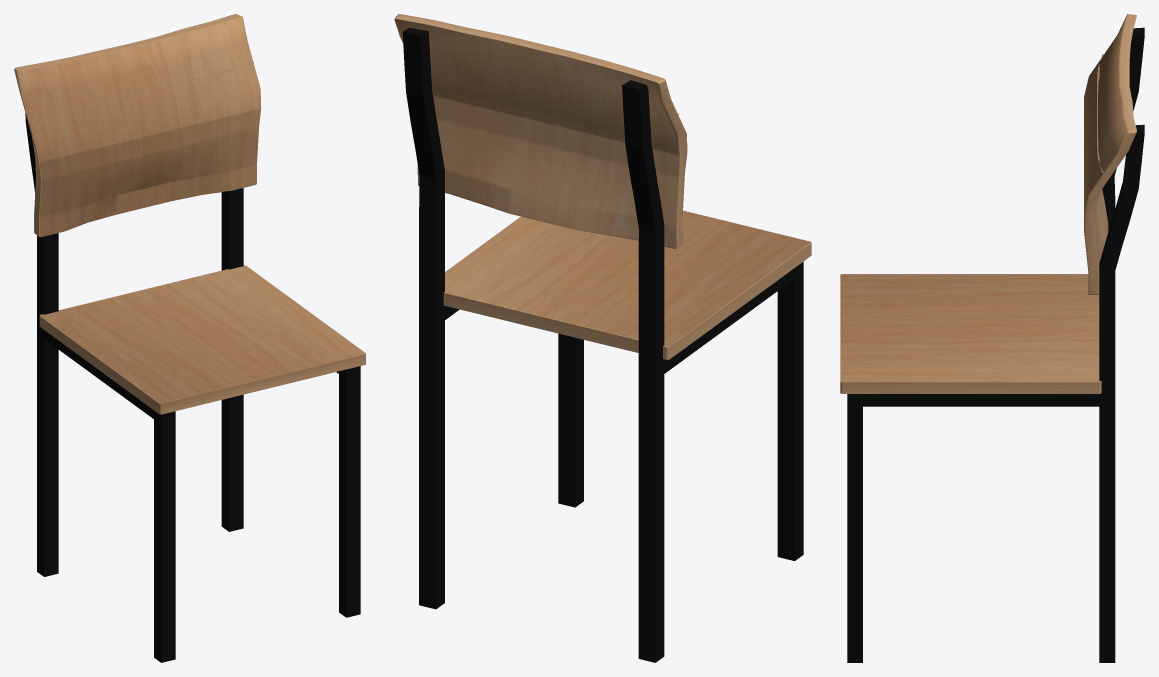
Rendered from DDLC_CHAIR.obj.
3 views of the same model, side by side, from view 1: azimuth 30°, elevation 25°; view 2: azimuth 150°, elevation 25°; view 3: azimuth 270°, elevation 25° (orthographic). The views are drawn at different scales.
Parts seen in each view (by area): view 1: Backrest_Cube.007, Seat_Cube.002, ChairLegs_Cube.008; view 2: ChairLegs_Cube.008, Backrest_Cube.007, Seat_Cube.002; view 3: Seat_Cube.002, ChairLegs_Cube.008, Backrest_Cube.007.
Part boxes in pixels (<box>): Backrest_Cube.007: <box>14,14,261,237</box>; Seat_Cube.002: <box>39,265,365,414</box>; ChairLegs_Cube.008: <box>25,113,360,662</box>; ChairLegs_Cube.008: <box>402,27,803,662</box>; Backrest_Cube.007: <box>394,14,687,248</box>; Seat_Cube.002: <box>443,210,811,359</box>; Seat_Cube.002: <box>840,274,1101,393</box>; ChairLegs_Cube.008: <box>847,27,1144,662</box>; Backrest_Cube.007: <box>1084,14,1136,294</box>.
Bounding box in the file's own units: 2.4 × 5.08 × 2.61.
